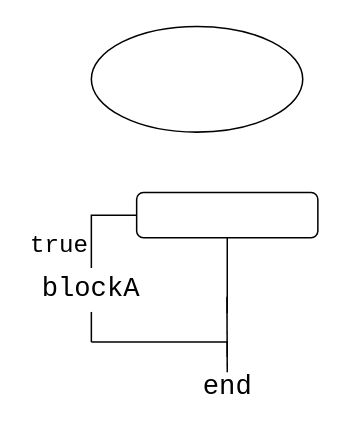
This 344x448 diagram has some shape labels left out. The shapes that lost their labels are listed below. From the top down, each one's box as (x1, y1, x2, y2) in pixels, then its label:
(90, 25, 303, 132): conditionA
(135, 191, 318, 238): condionA
